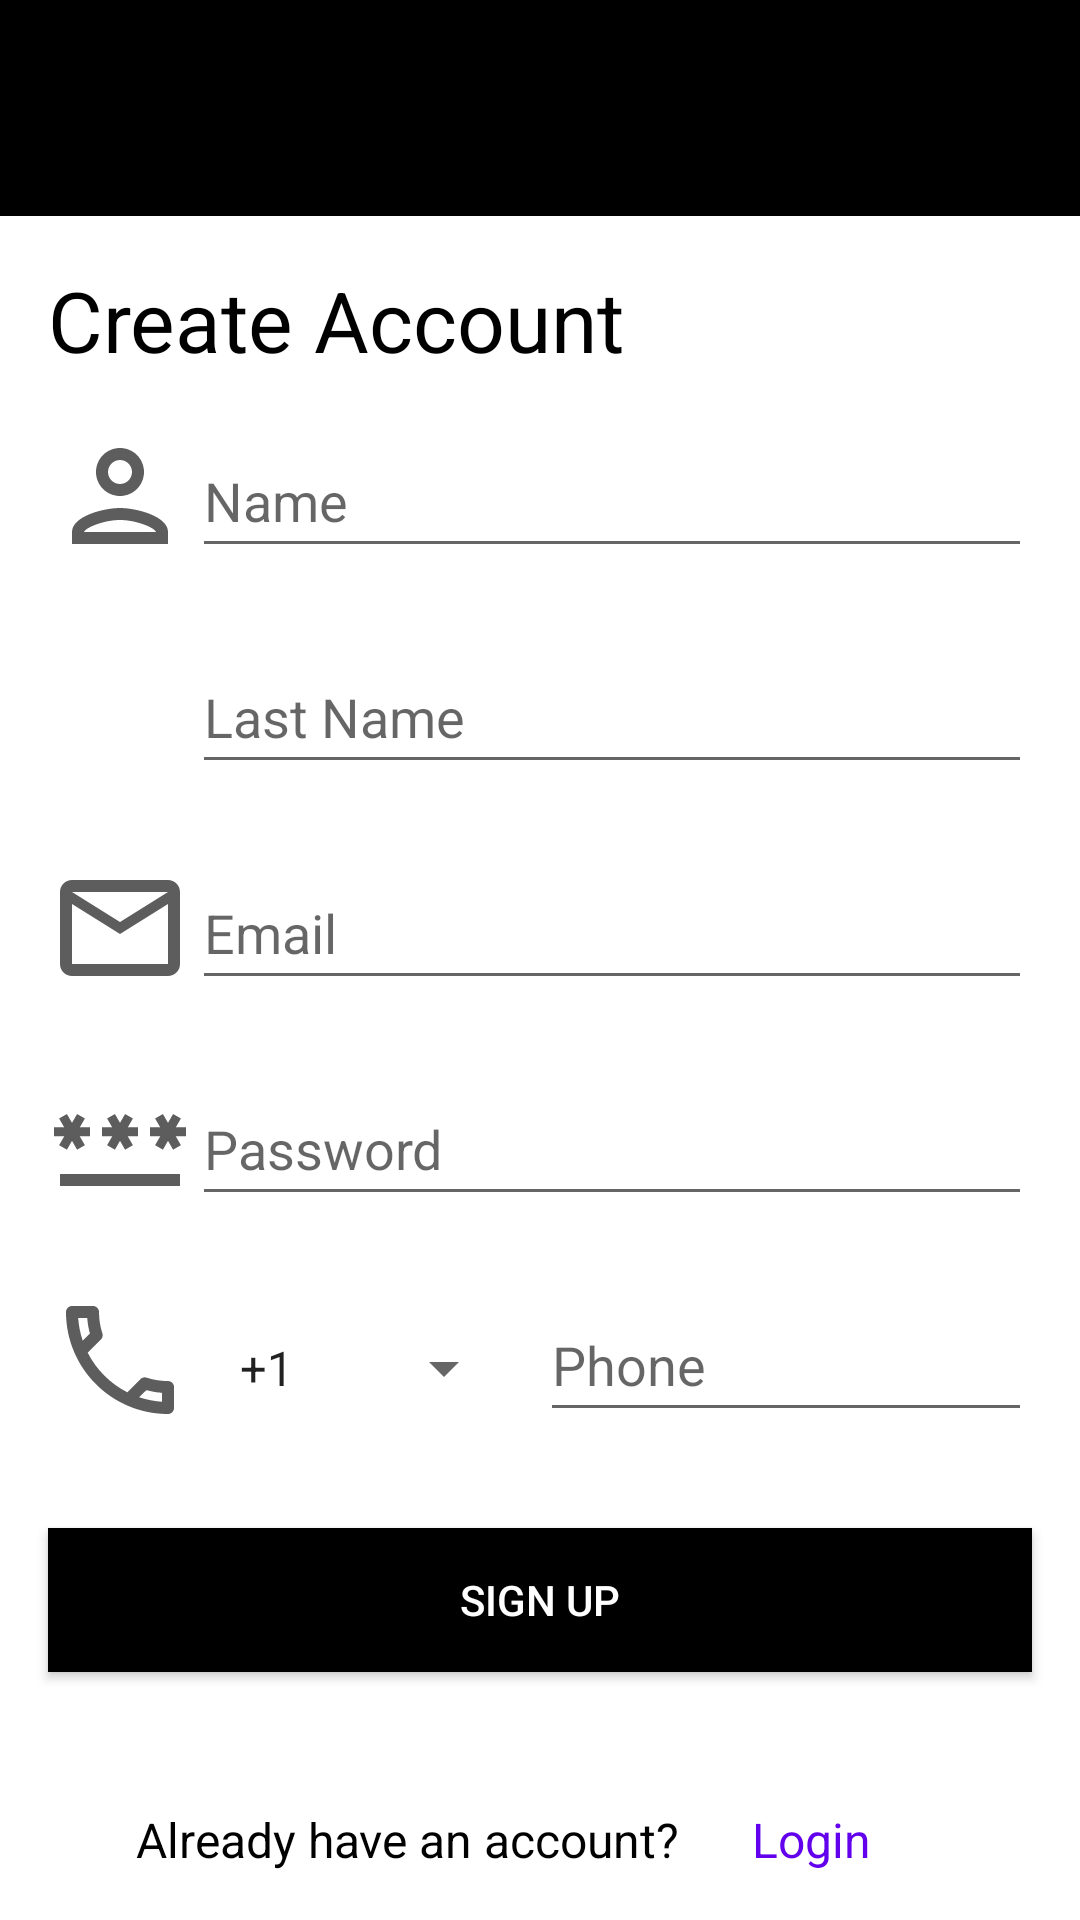

Named icons in this screenshot (1080px x 1920px) and their bounding boxes, (x1, y1, x2, y2):
person: (72, 448, 168, 544)
phone: (66, 1306, 174, 1414)
